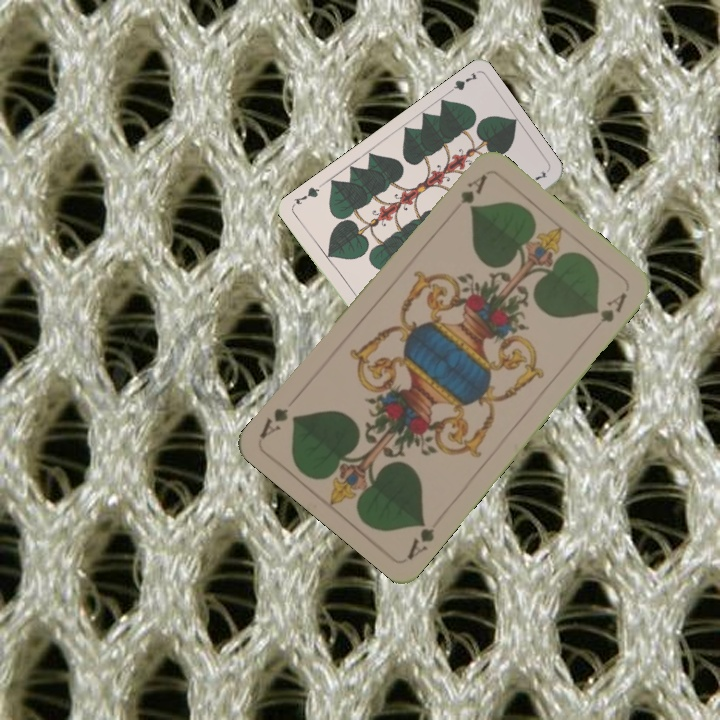G7: (442, 68, 480, 97)
GA: (403, 516, 437, 562), (456, 170, 490, 207)
